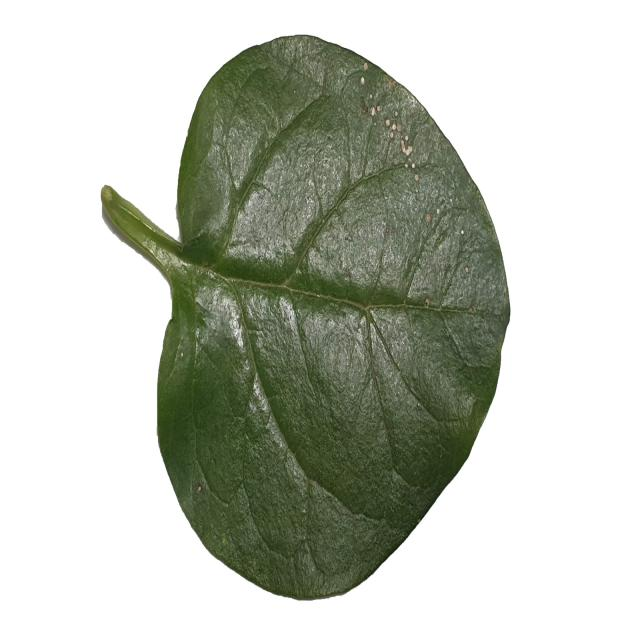Medicinal-Basale: (103, 31, 511, 605)
